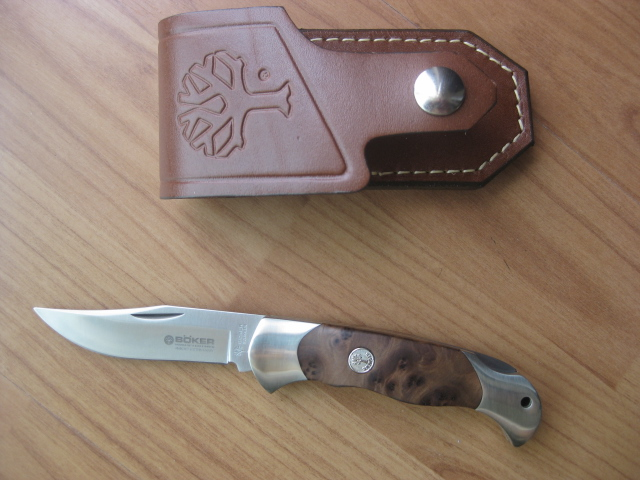knife: (24, 294, 551, 459)
